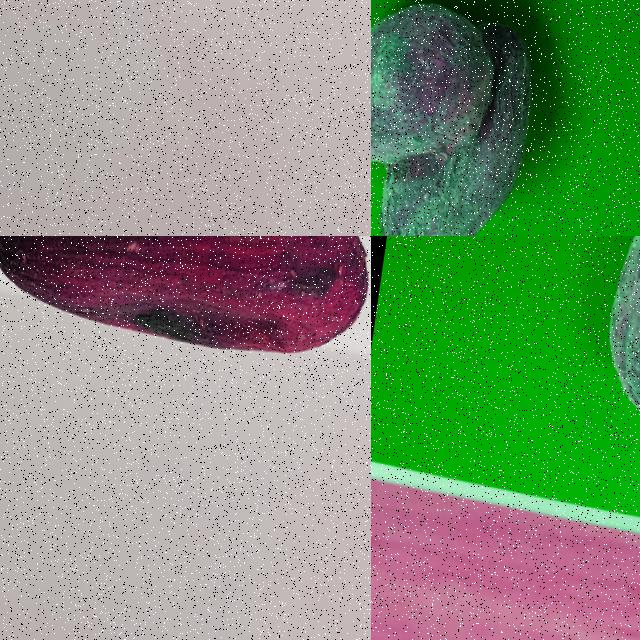Agglomerated_cocoabeans: (371, 0, 639, 235), (475, 236, 639, 509)
Fine_cocoabeans: (0, 236, 370, 397)
